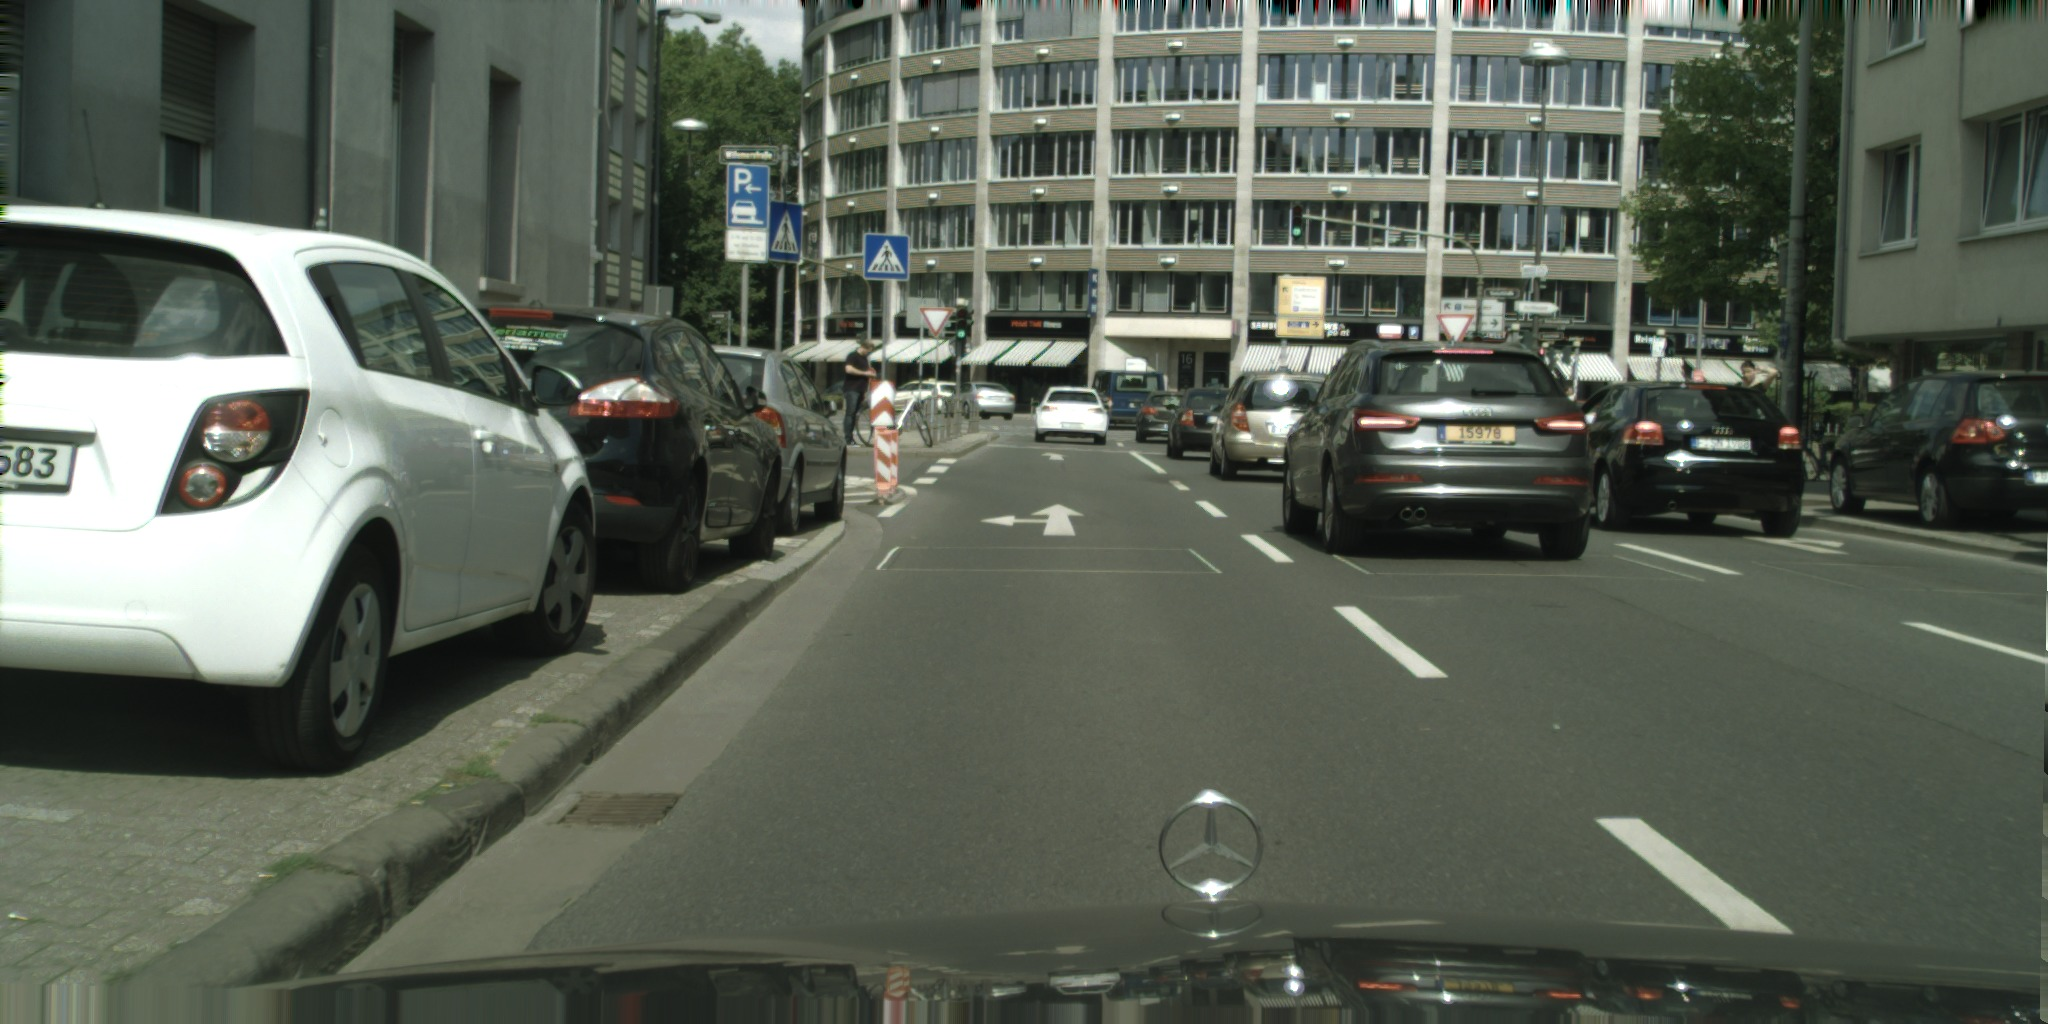bicycle: (853, 379, 934, 448)
car: (0, 109, 597, 772), (358, 300, 782, 595), (1281, 336, 1593, 561), (1555, 379, 1808, 539), (1829, 368, 2047, 528), (678, 343, 849, 537), (1209, 371, 1348, 480), (1167, 388, 1254, 459), (1031, 386, 1109, 444), (1090, 369, 1165, 426), (1134, 390, 1188, 443), (946, 381, 1015, 420), (888, 378, 960, 412), (810, 380, 875, 406)
person: (841, 340, 876, 448), (1720, 361, 1778, 412)
